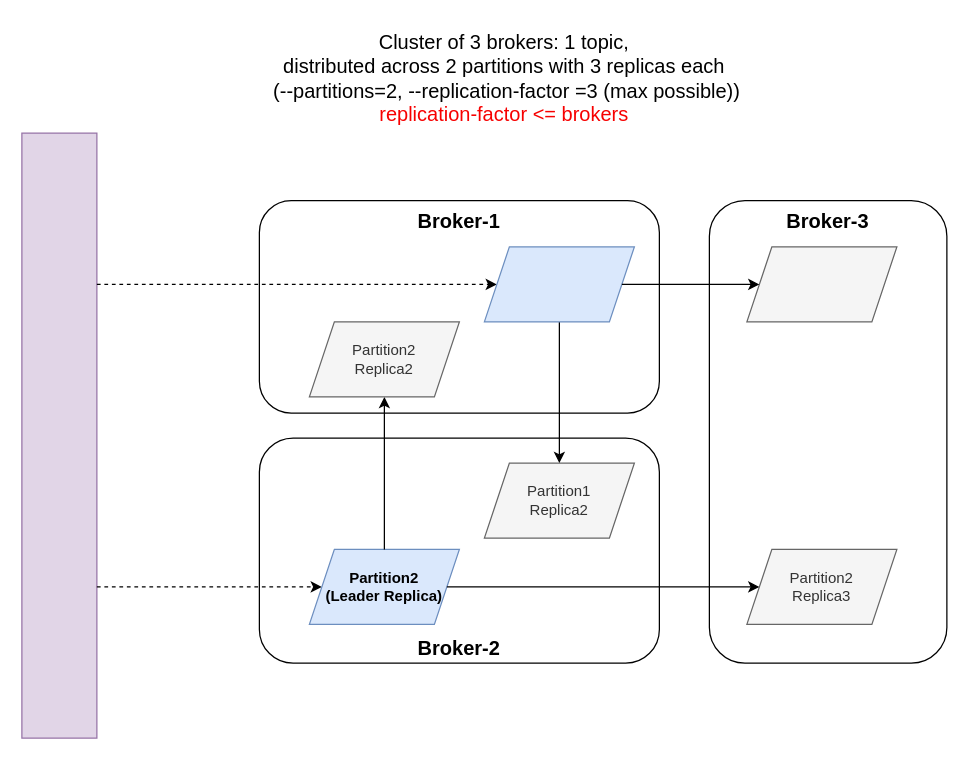
This 969x760 diagram has some shape labels left out. The centre of each missing label's shape, as x and y in pixels:
"Partition1 (Leader Replica)" goes at point 558,284.
"Partition1 Replica3" goes at point 821,284.
"Topic" goes at point 59,435.
